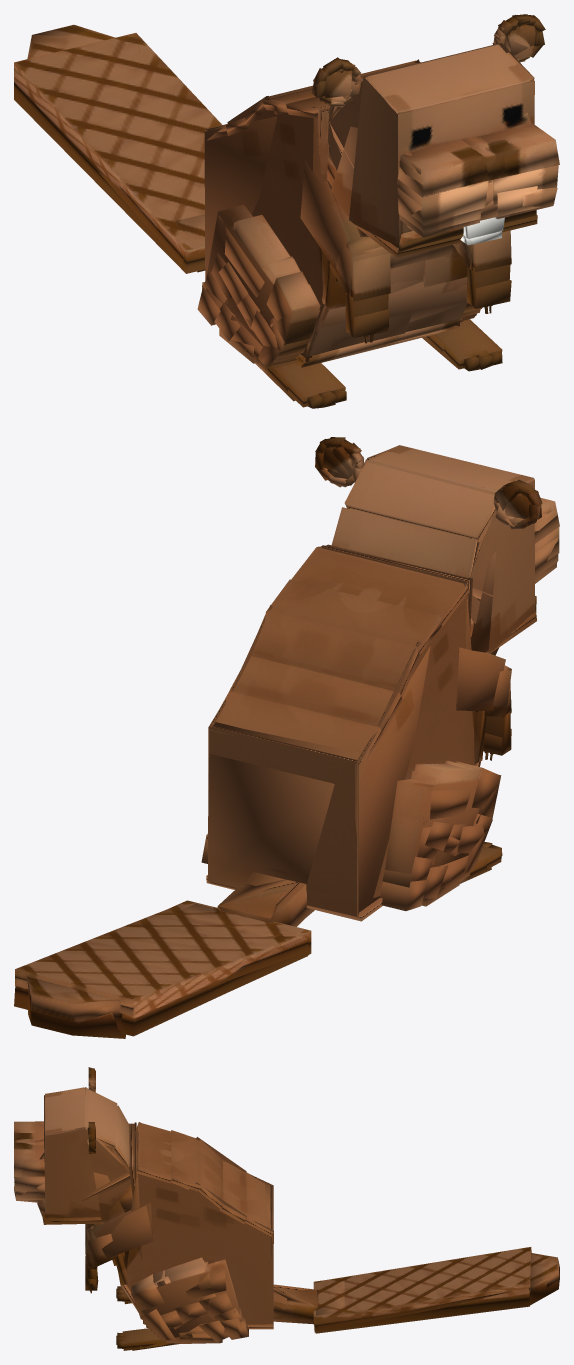
Rendered from beaver.glb.
The picture shows the model from 3 angles, top to bottom: view 1: azimuth 30°, elevation 25°; view 2: azimuth 150°, elevation 25°; view 3: azimuth 270°, elevation 25°; orthographic projection. The views are drawn at different scales.
Size of the model in its own units: 0.2979 by 0.4551 by 1.
Materials: 1 (1 with a texture image).
